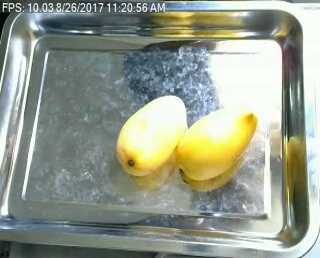Mango: (177, 107, 257, 179), (117, 97, 187, 173)
